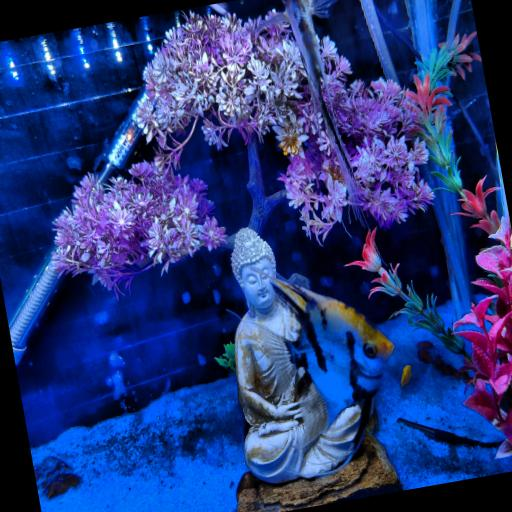Fish: (257, 0, 363, 223), (271, 278, 393, 469), (400, 365, 412, 391), (209, 2, 229, 15)
